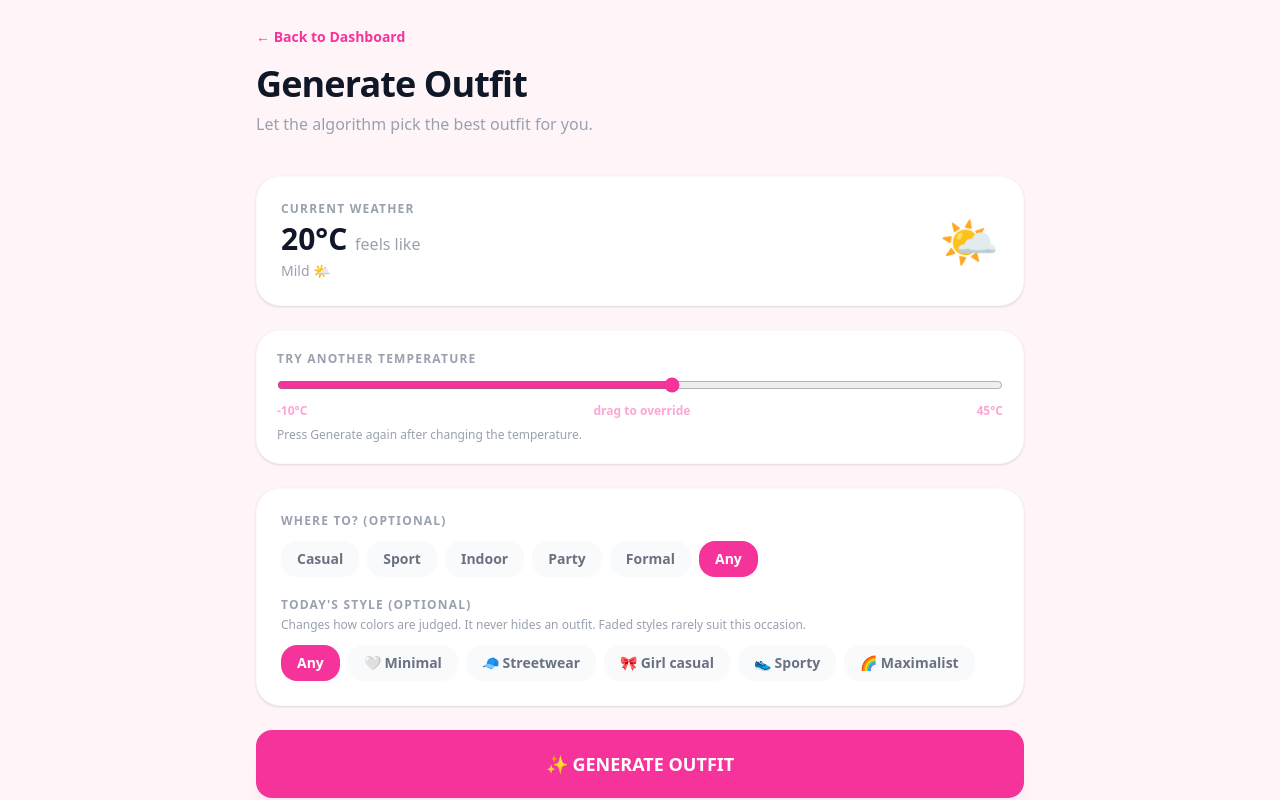
Test: Suggest page: add to calendar › opens a date picker for the chosen outfit, defaulting to today
Click the button "✨ GENERATE OUTFIT" at (640, 764), box [256, 730, 1024, 798]
(page scrolled)
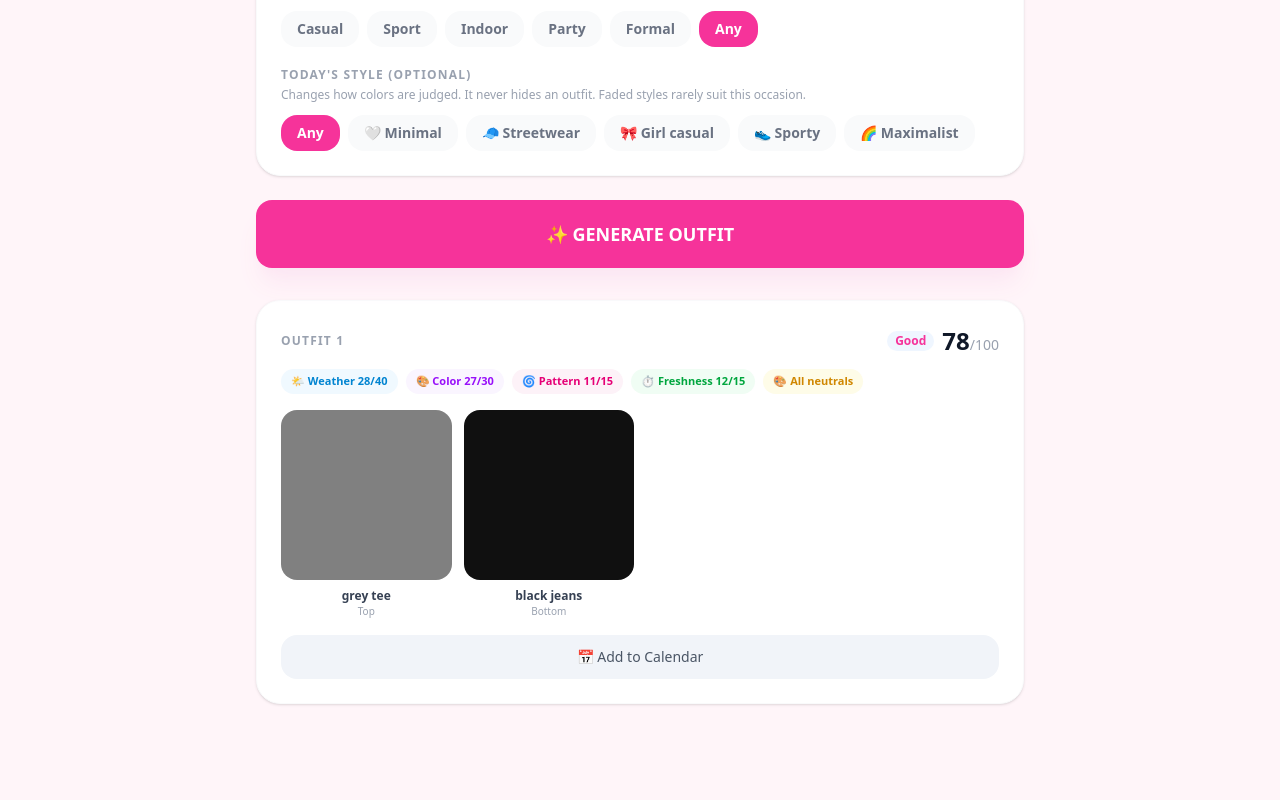
Check: the text "Outfit 1" is shown, box [281, 333, 344, 349]
Check: the button "📅 Add to Calendar" is shown
Click the button "📅 Add to Calendar" at (640, 657), box [281, 635, 999, 679]
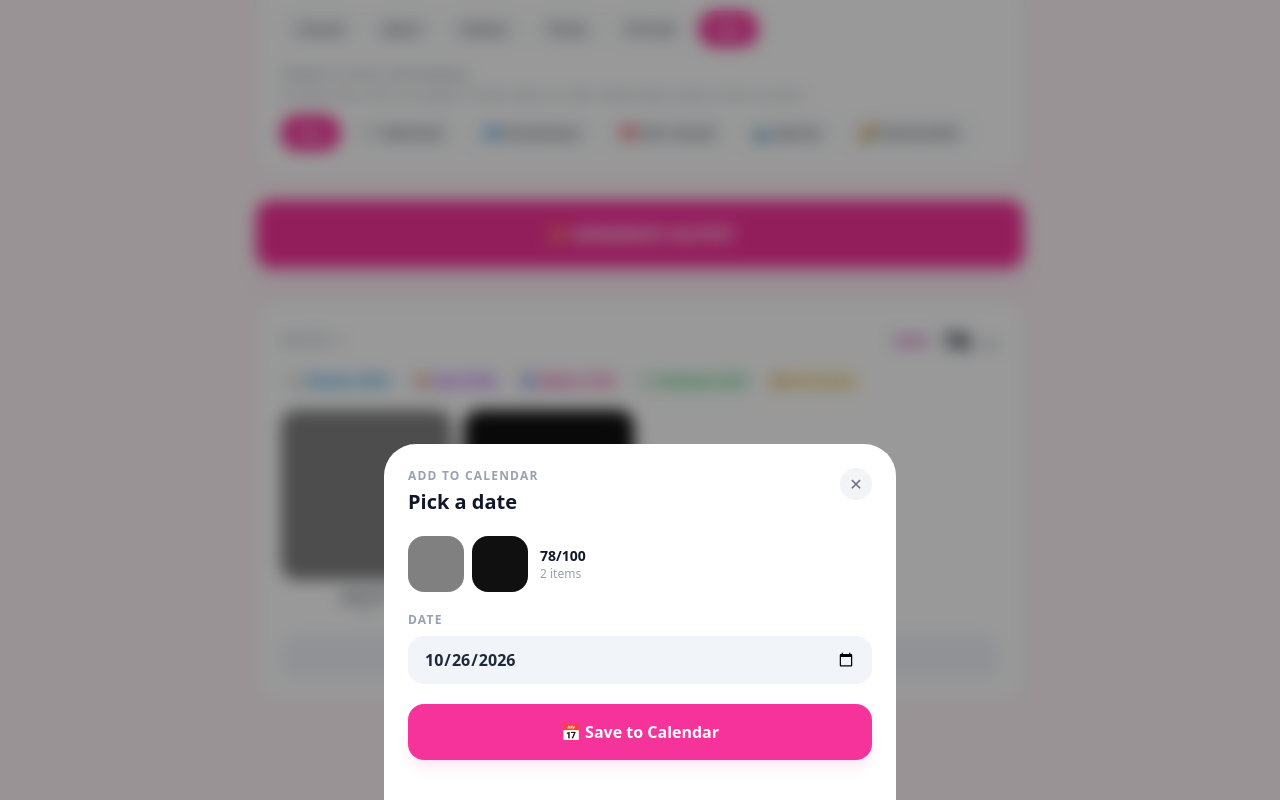
Check: the text "Pick a date" is shown, box [408, 488, 517, 515]
Check: the dialog is shown
